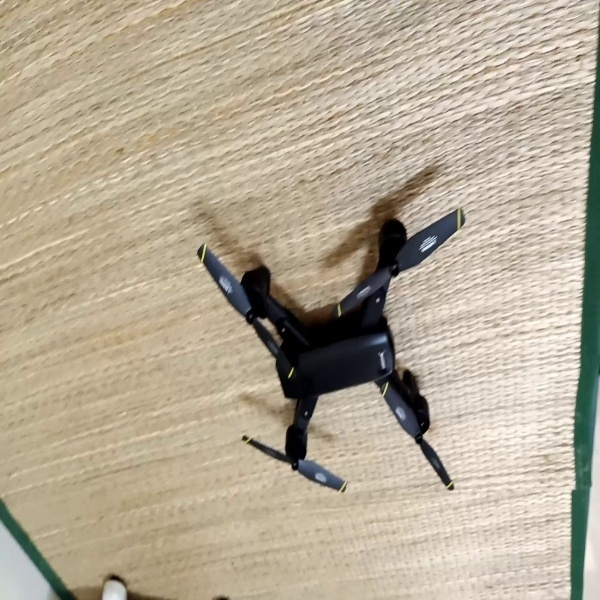drone: (194, 197, 463, 500)
